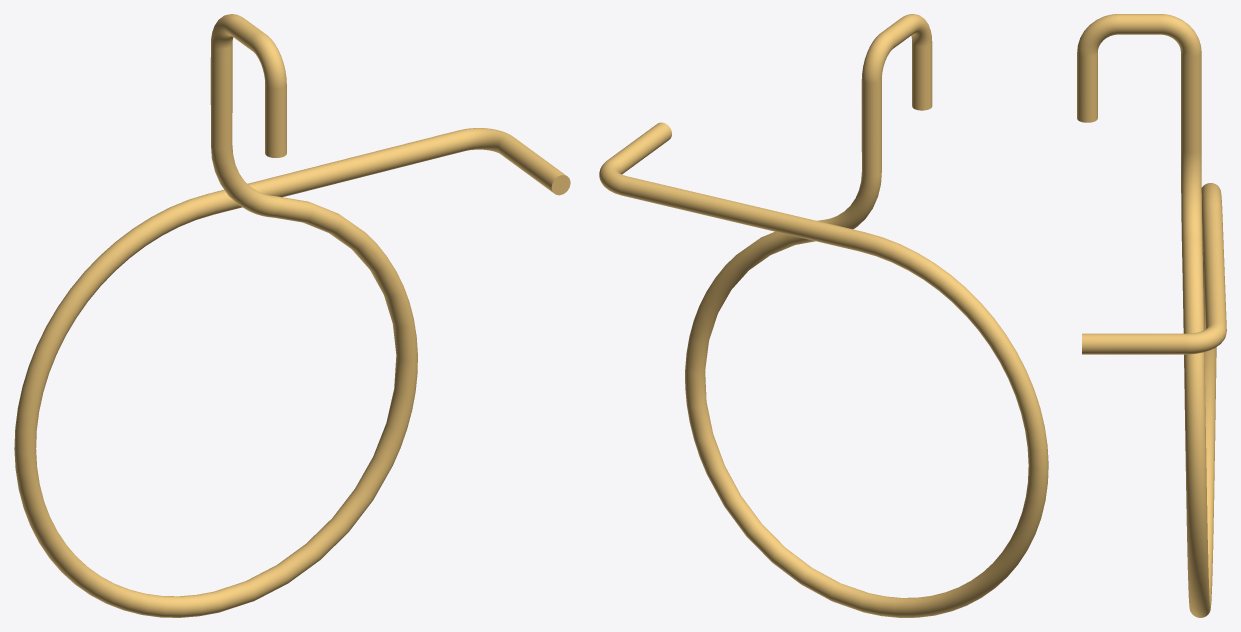
Rendered from Spring Pin.fbx.
The picture shows the model from 3 angles, left to right: view 1: azimuth 30°, elevation 25°; view 2: azimuth 150°, elevation 25°; view 3: azimuth 270°, elevation 25°; orthographic projection. The views are drawn at different scales.
Visible parts, largest first — view 1: Body1; view 2: Body1; view 3: Body1.
Part boxes in pixels (x1,y1,x2,y2): Body1: [14, 14, 570, 617]; Body1: [599, 14, 1048, 617]; Body1: [1077, 14, 1226, 617].
Bounding box in the file's own units: 51.99 × 62 × 14.43.
